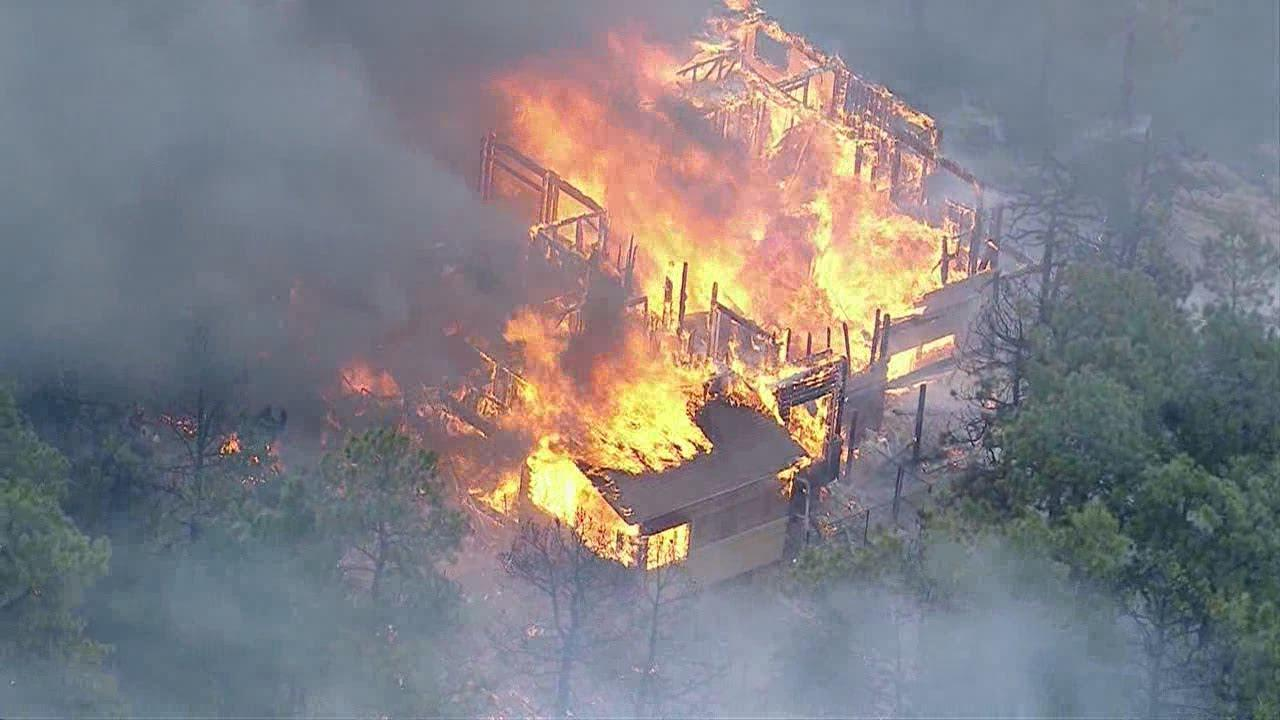fire: (398, 21, 970, 557)
